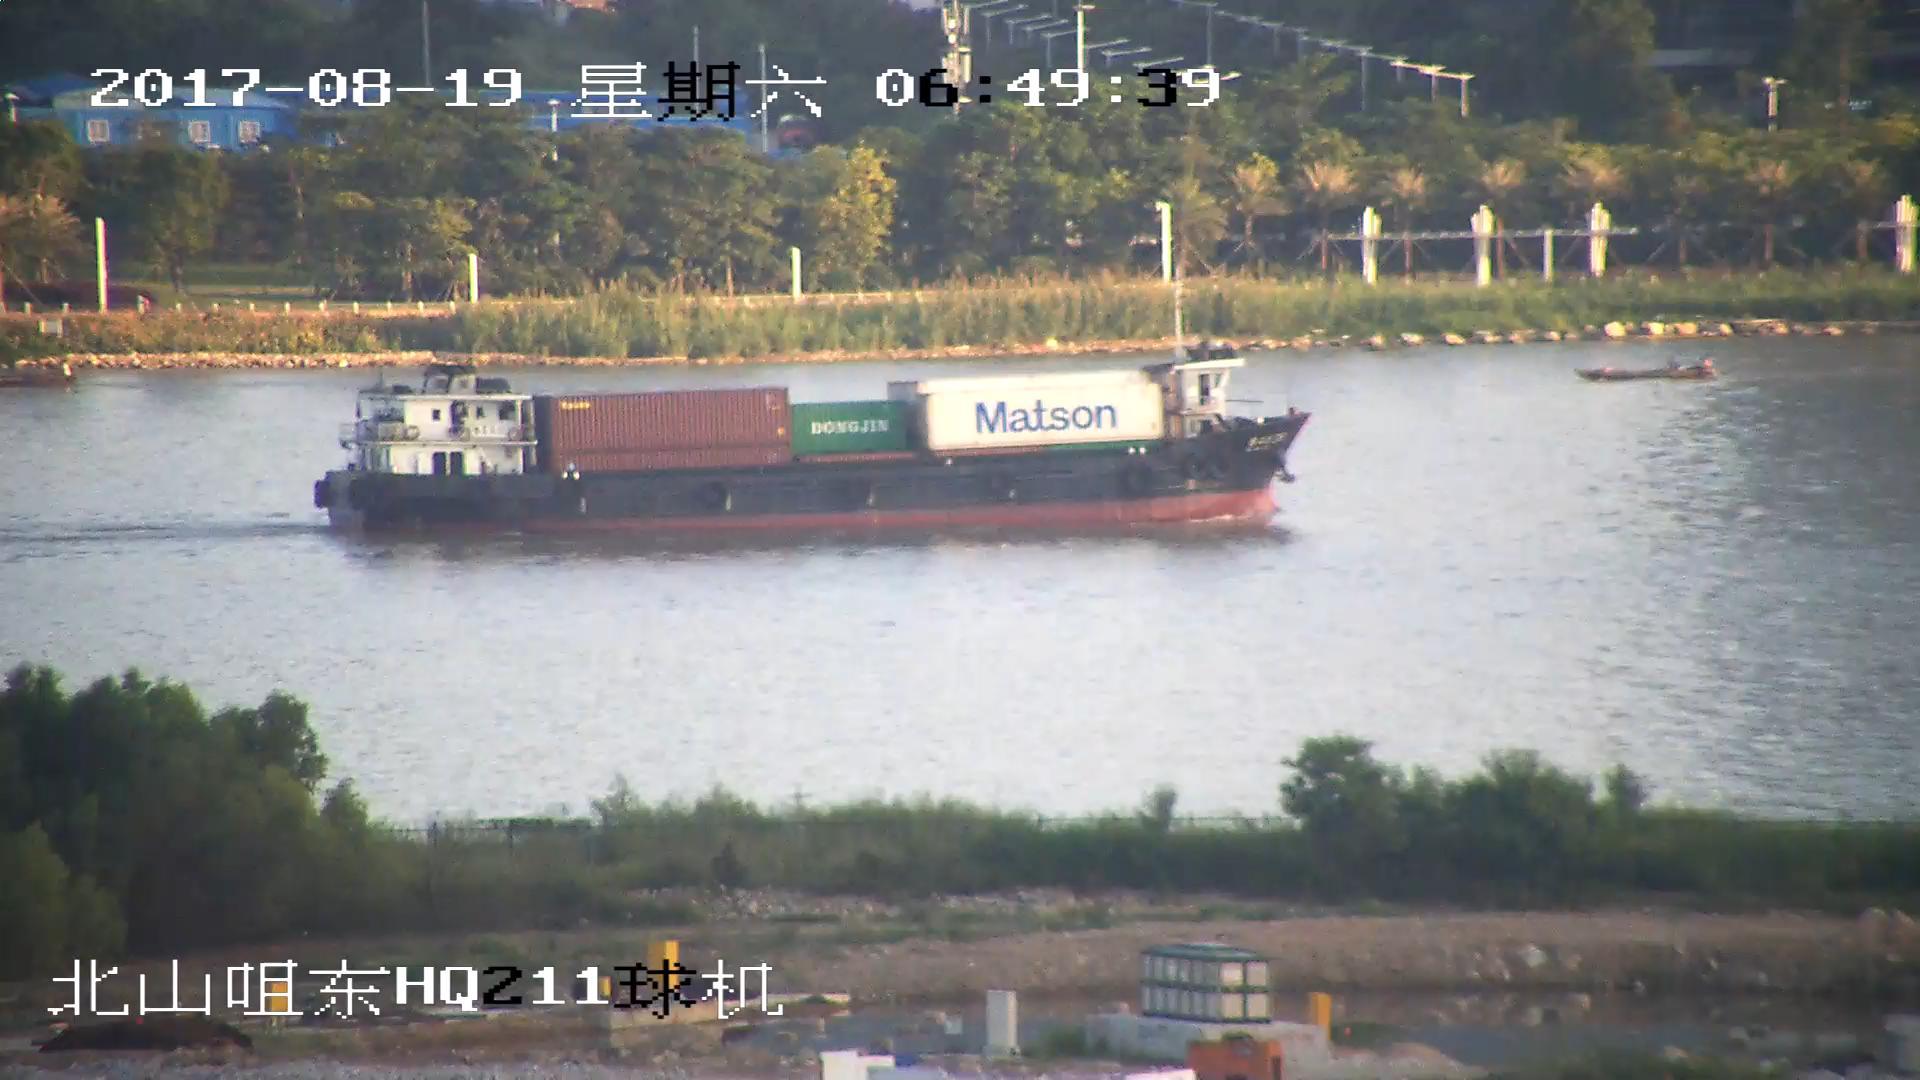container ship: (307, 327, 1314, 544)
fishing boat: (1578, 358, 1718, 386)
